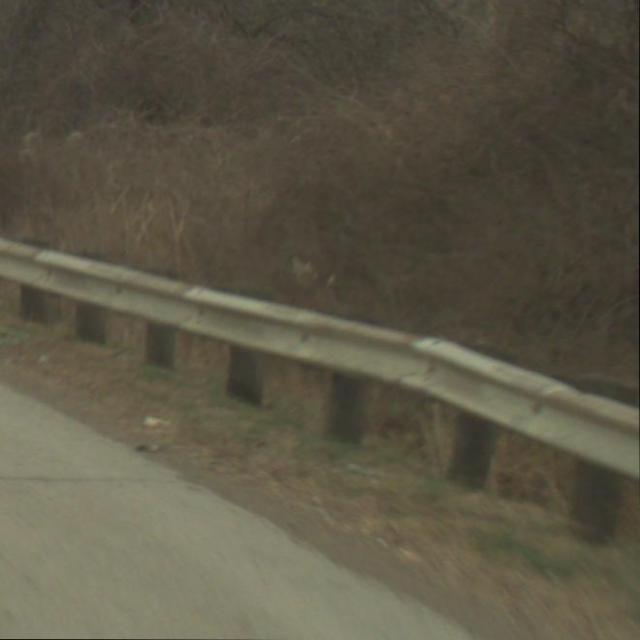Guard rail: (0, 226, 640, 576)
